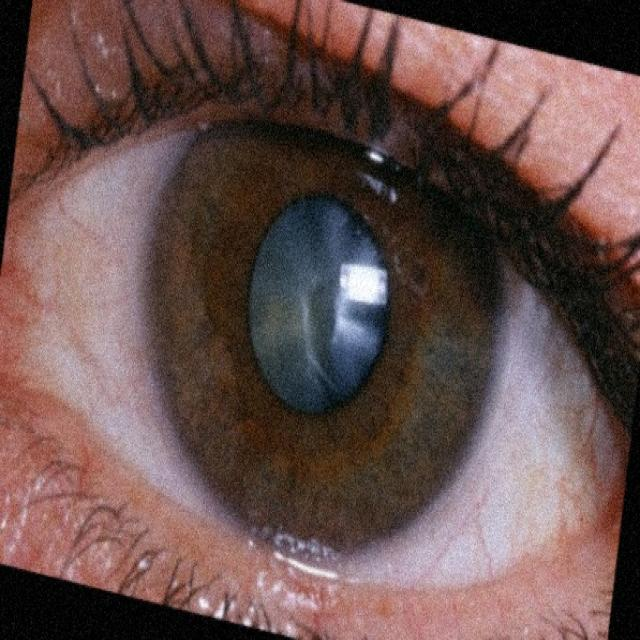Cataract: (57, 30, 585, 604)
